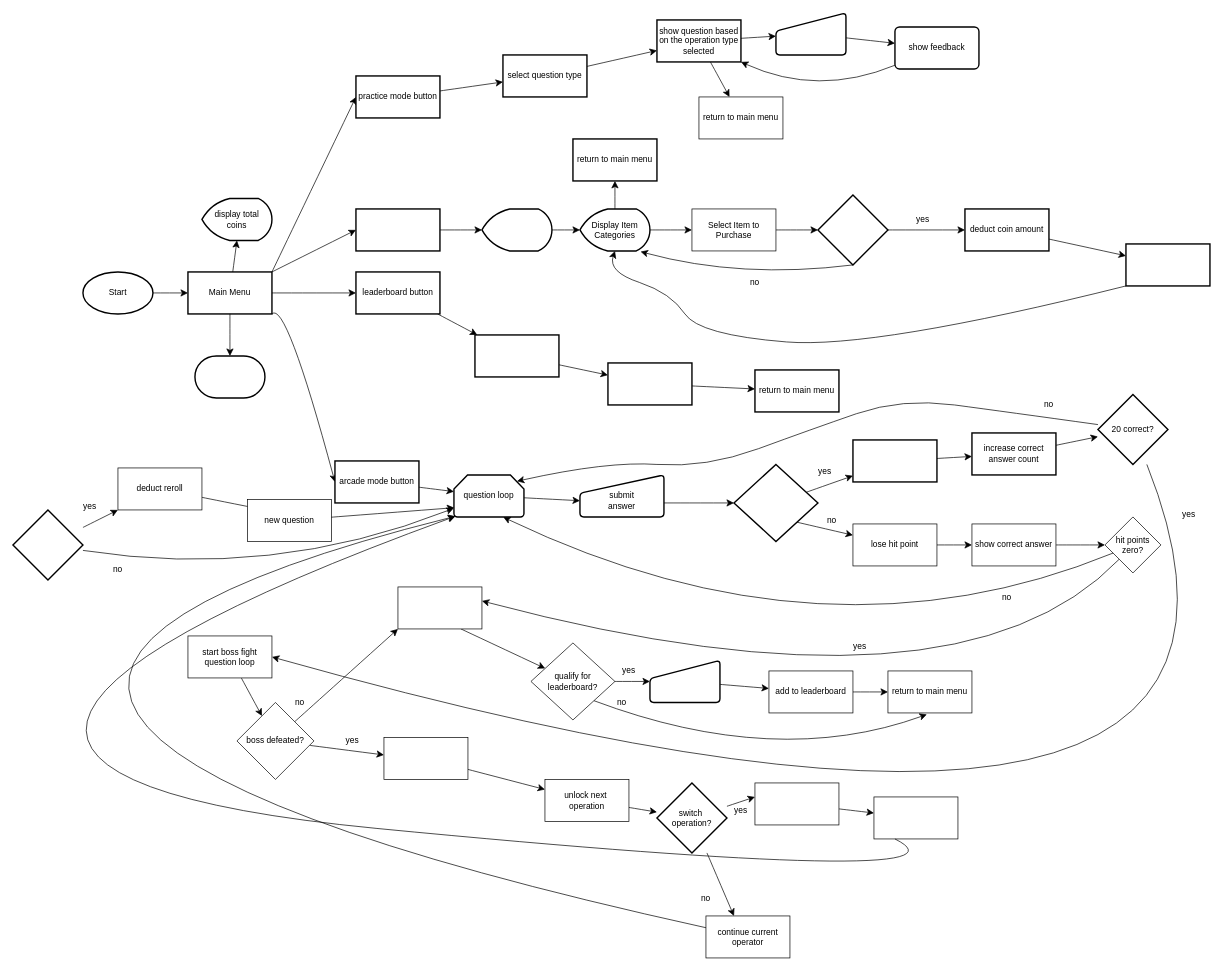
Some shapes in this 1222 by 970 pixel diagram are drawn without their labels. Each missing label, with the centre of its shape:
"add item to inventory" belongs at [1167,264].
"add operation to switch options" belongs at [915,817].
"add score and coins" belongs at [894,460].
"ask user for name" belongs at [684,681].
"award 25 coins" belongs at [425,758].
"correct answer?" belongs at [775,502].
"defeat, show final score and coins" belongs at [439,607].
"Display Coin Amount" belongs at [516,229].
"Enough Coins?" belongs at [852,229].
"Exit Program/ End" belongs at [229,376].
"highlight user rank" belongs at [649,383].
"reroll?" belongs at [47,544].
"shop button" belongs at [397,229].
"show top 200 scores in a list" belongs at [516,355].
"switch to harder operation" belongs at [796,803].
"type answer and submit" belongs at [810,33].
